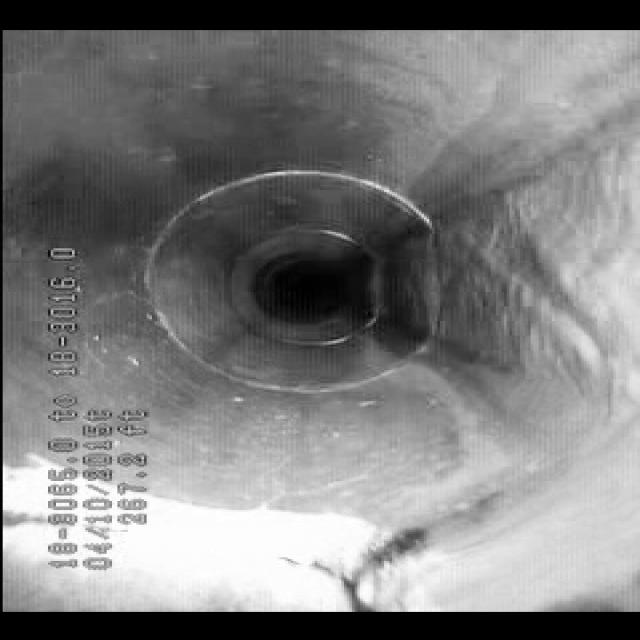Fracture: (256, 496, 452, 606)
